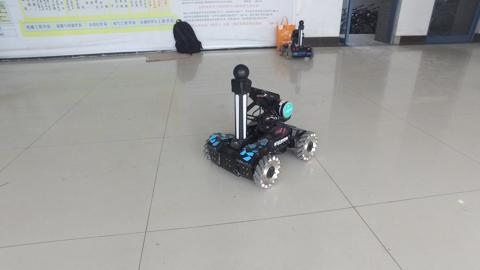bag: (170, 17, 205, 56), (273, 14, 298, 49)
chariot: (201, 63, 317, 189), (278, 19, 316, 60)
